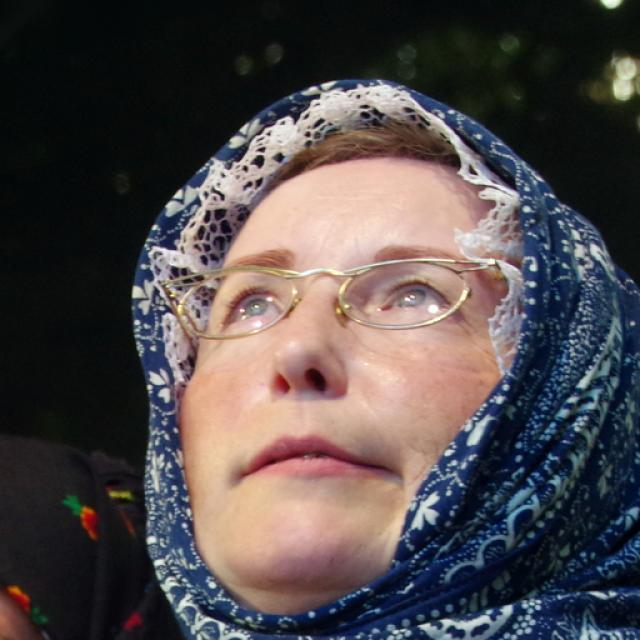neutral: (183, 156, 502, 585)
